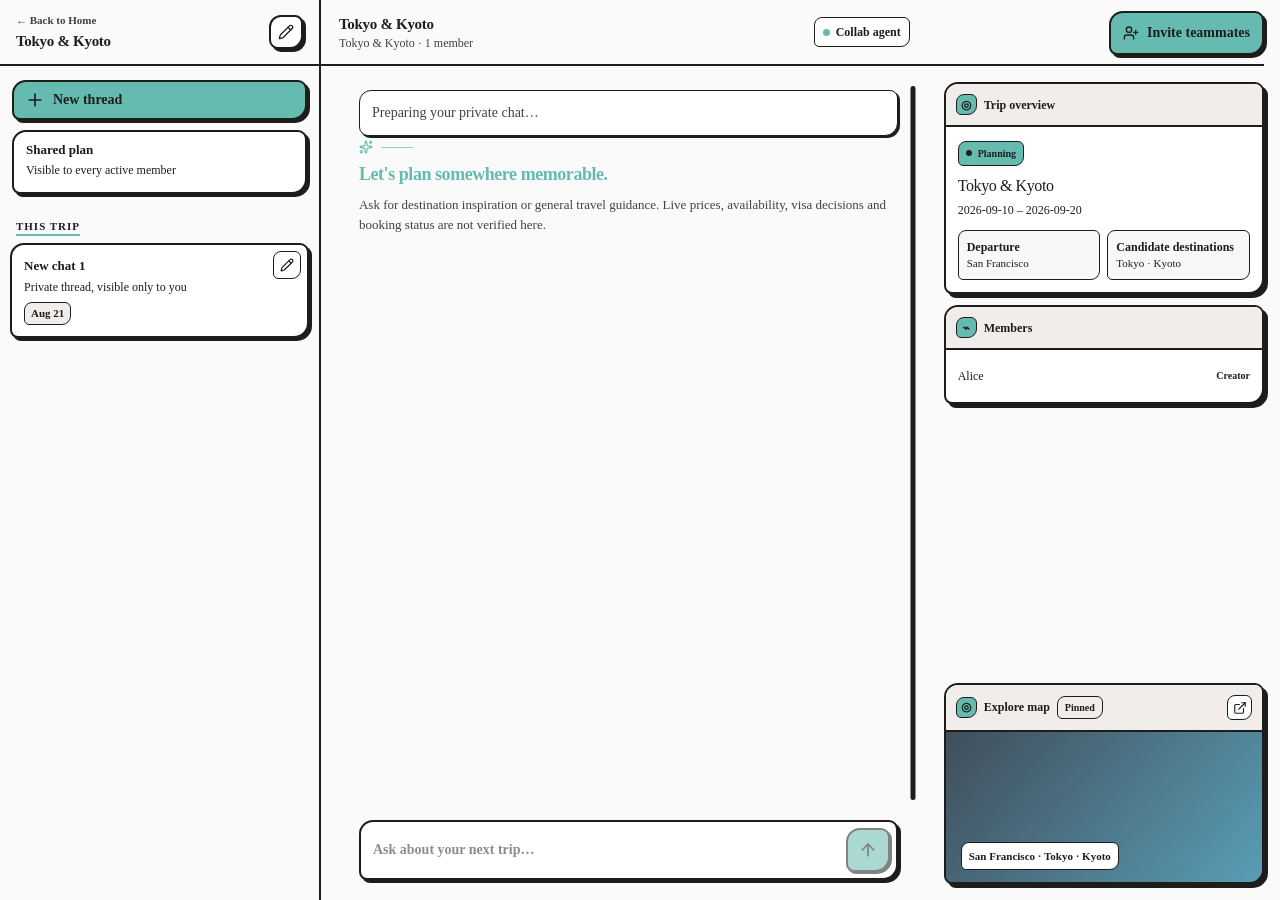
TripWorkspace › explains a refused AI naming attempt (MANUAL_LOCKED) and keeps the title
Click the button named "Thread actions": x=287, y=264 [273, 250, 301, 278]
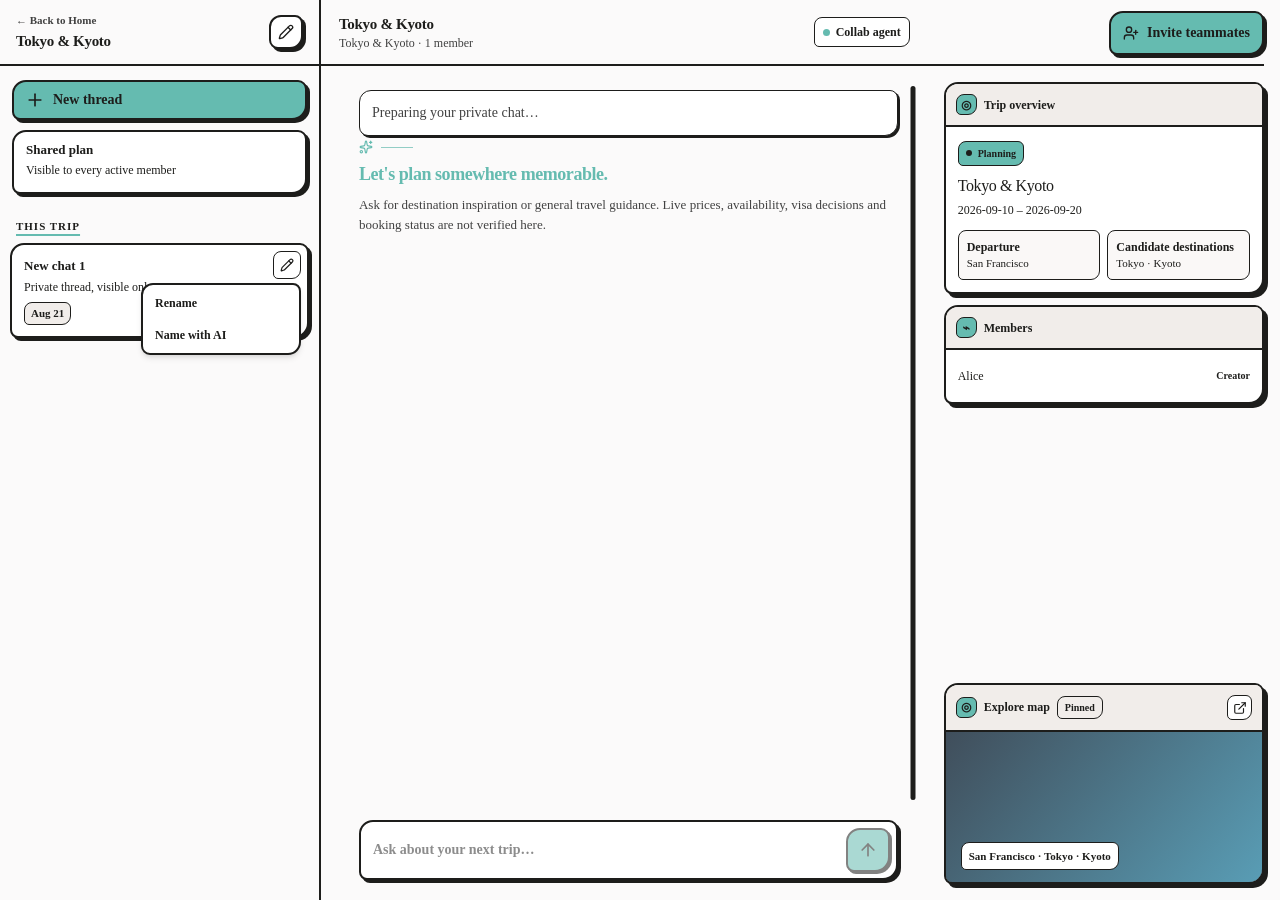
Click the menu item "Name with AI": x=221, y=334 [147, 320, 295, 348]
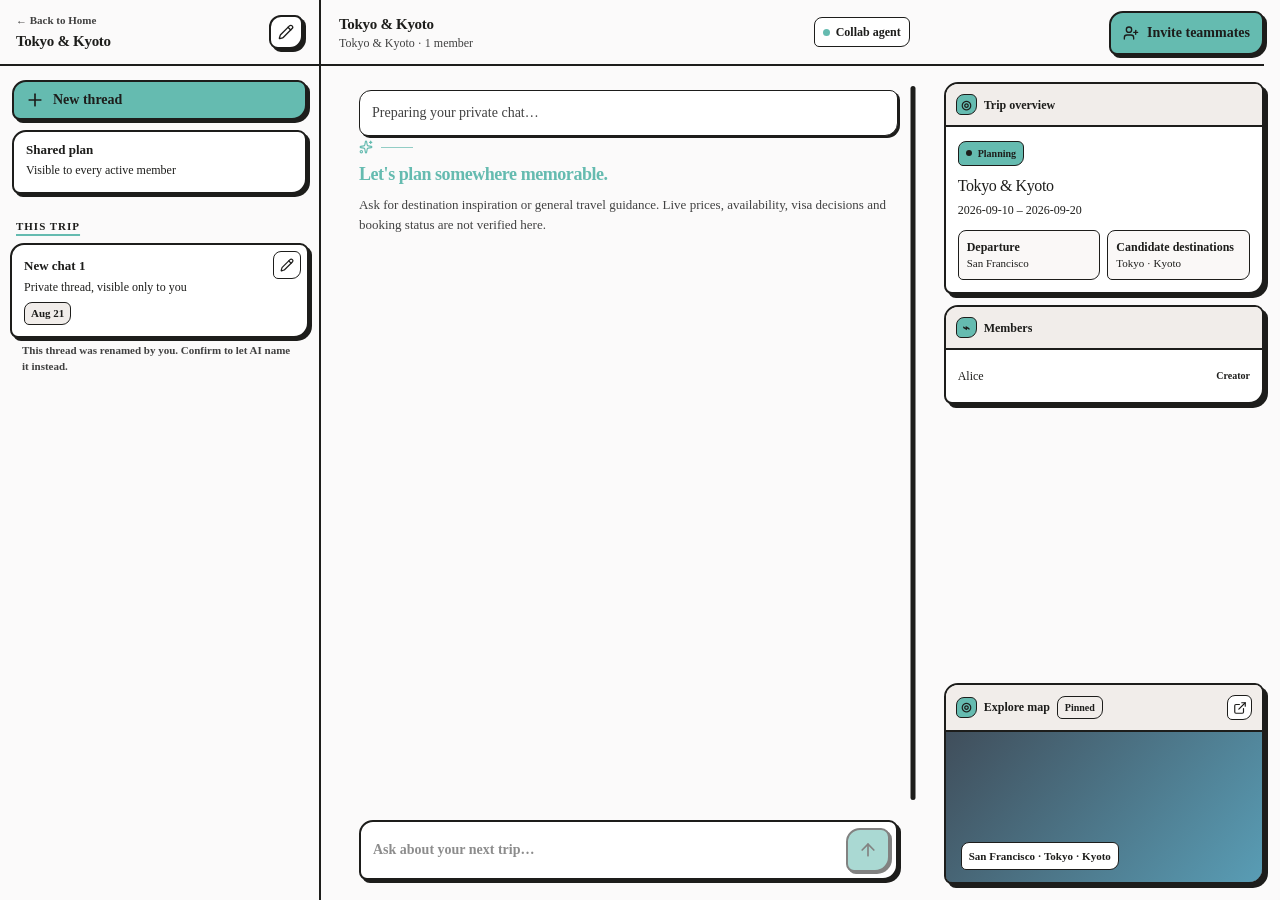
Expected: the button "New chat 1 Private thread, visible only to you Aug 21" is shown, [10, 242, 309, 338]
Expected: the text "This thread was renamed by you. Confirm to let AI name it instead." is shown, [10, 342, 309, 374]
